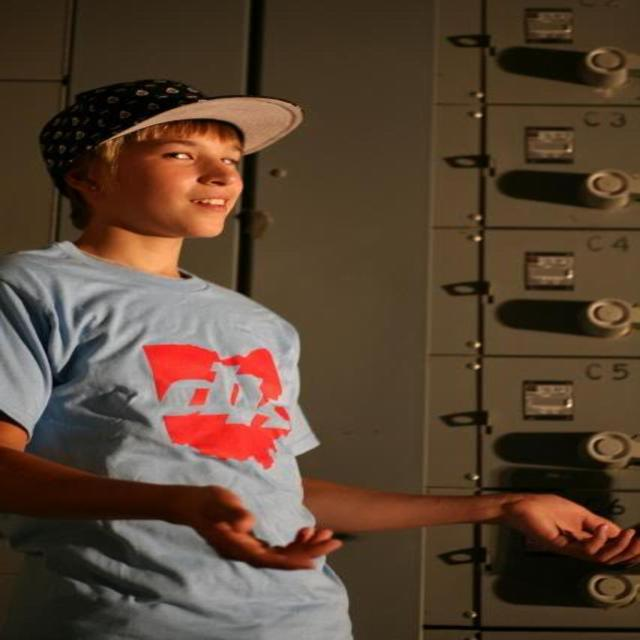nomask: (105, 130, 245, 235)
